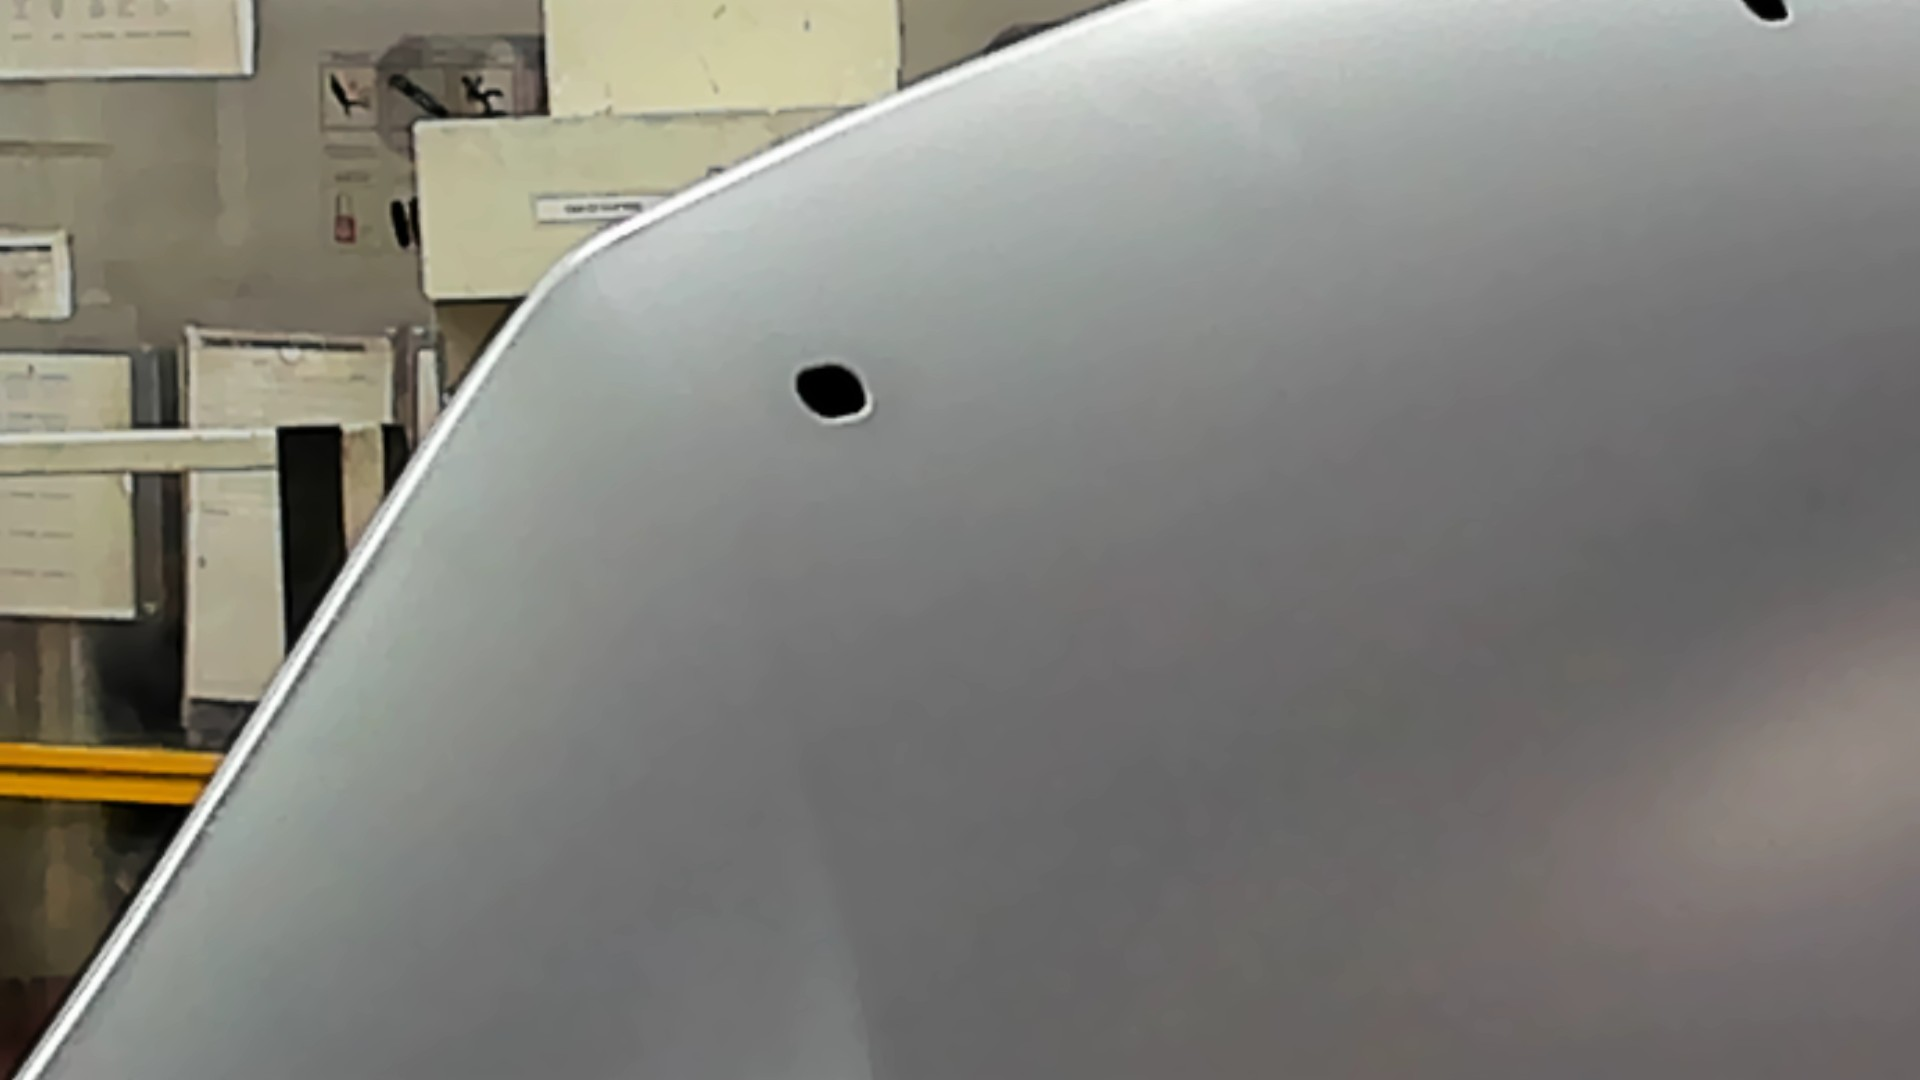amorfo: (783, 353, 874, 423), (1735, 1, 1807, 28)
